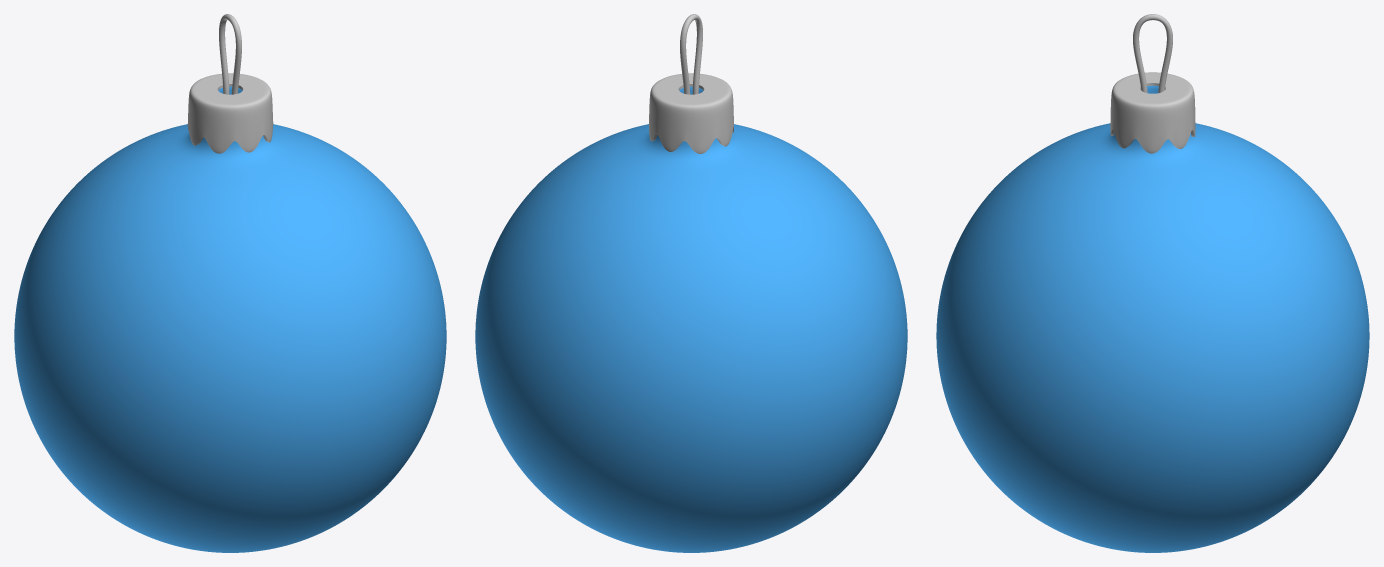
The model's file is christmasball3.glb.
3 renders of one model, left to right at view 1: azimuth 30°, elevation 25°; view 2: azimuth 150°, elevation 25°; view 3: azimuth 270°, elevation 25°, orthographic.
Parts seen in each view (by area): view 1: glas_2, Cylinder.005_1, BezierCircle_0; view 2: glas_2, Cylinder.005_1, BezierCircle_0; view 3: glas_2, Cylinder.005_1, BezierCircle_0.
Boxes of the visible parts, x1,y1,x2,y2 form: glas_2: [14, 86, 446, 552]; Cylinder.005_1: [187, 73, 273, 153]; BezierCircle_0: [219, 14, 241, 94]; glas_2: [475, 86, 907, 552]; Cylinder.005_1: [649, 73, 733, 153]; BezierCircle_0: [680, 14, 702, 94]; glas_2: [936, 85, 1369, 552]; Cylinder.005_1: [1110, 72, 1195, 153]; BezierCircle_0: [1133, 14, 1172, 93].
Bounding box in the file's own units: 1.99 × 2.63 × 1.99.
